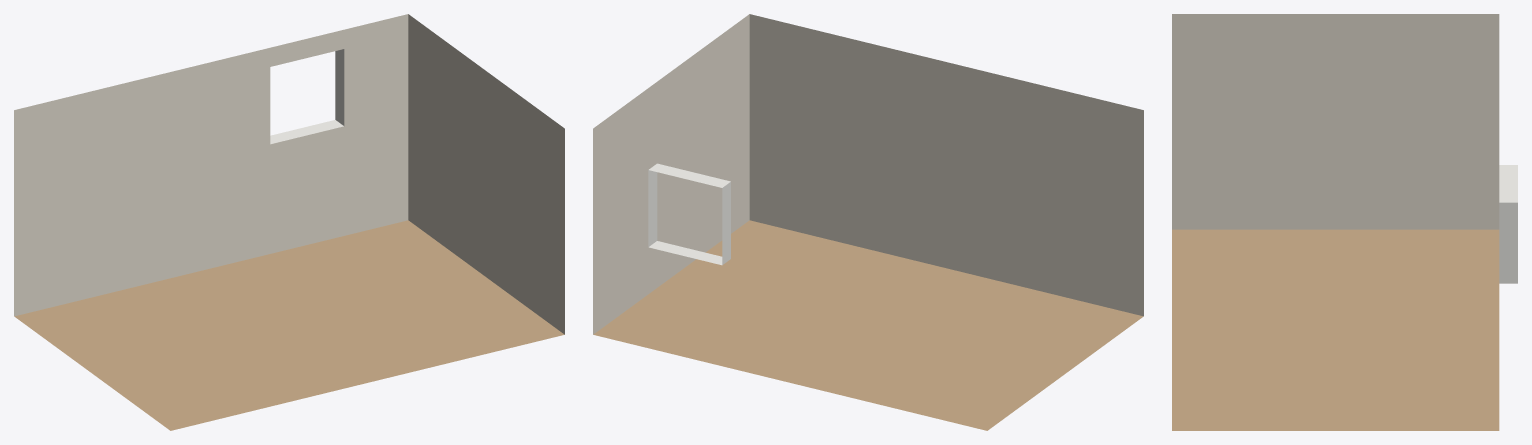
File: earth-room.glb
3 renders of one model, left to right at view 1: azimuth 30°, elevation 25°; view 2: azimuth 150°, elevation 25°; view 3: azimuth 270°, elevation 25°, orthographic. The views are drawn at different scales.
Visible parts, largest first — view 1: RoomWalls, RoomFloor, WindowReveal; view 2: RoomWalls, RoomFloor, WindowReveal; view 3: RoomWalls, RoomFloor, WindowReveal.
Boxes of the visible parts, bbox=[...] form: RoomWalls: bbox=[14, 14, 564, 334]; RoomFloor: bbox=[14, 220, 564, 430]; WindowReveal: bbox=[270, 49, 344, 144]; RoomWalls: bbox=[593, 14, 1143, 334]; RoomFloor: bbox=[593, 220, 1143, 430]; WindowReveal: bbox=[648, 163, 730, 265]; RoomWalls: bbox=[1172, 14, 1499, 229]; RoomFloor: bbox=[1172, 229, 1499, 430]; WindowReveal: bbox=[1499, 165, 1517, 283].
Bounding box in the file's own units: 6.4 × 3.2 × 4.65.
